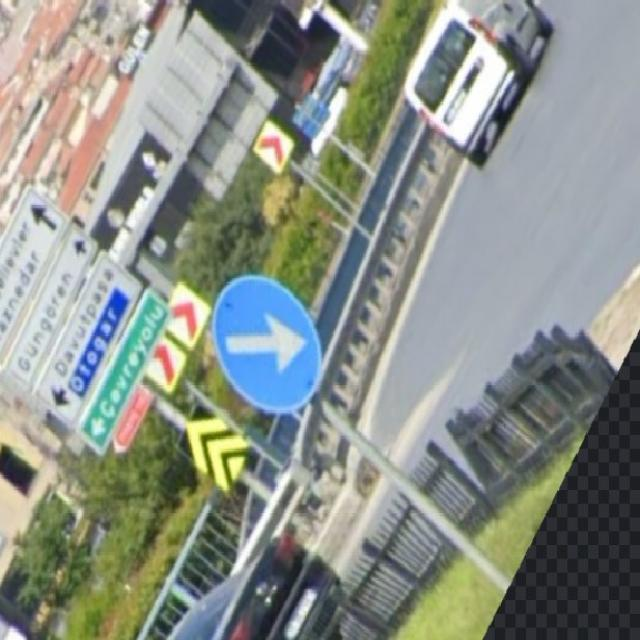Turn Right: (204, 277, 337, 416)
